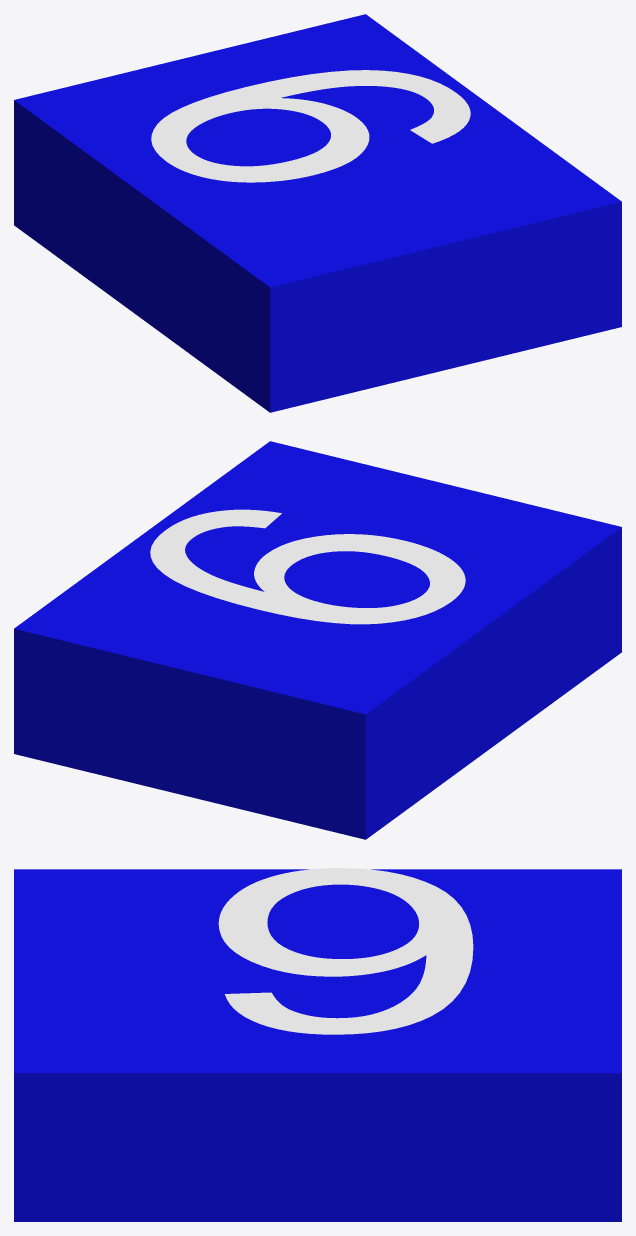
Rendered from number6.FBX.
3 renders of one model, top to bottom at view 1: azimuth 30°, elevation 25°; view 2: azimuth 150°, elevation 25°; view 3: azimuth 270°, elevation 25°, orthographic. The views are drawn at different scales.
Parts seen in each view (by area): view 1: Text001; view 2: Text001; view 3: Text001.
Part boxes in pixels (bbox=[...]): Text001: bbox=[14, 14, 621, 412]; Text001: bbox=[14, 441, 621, 839]; Text001: bbox=[14, 868, 621, 1221].
Bounding box in the file's own units: 18.63 × 7.23 × 23.5.
